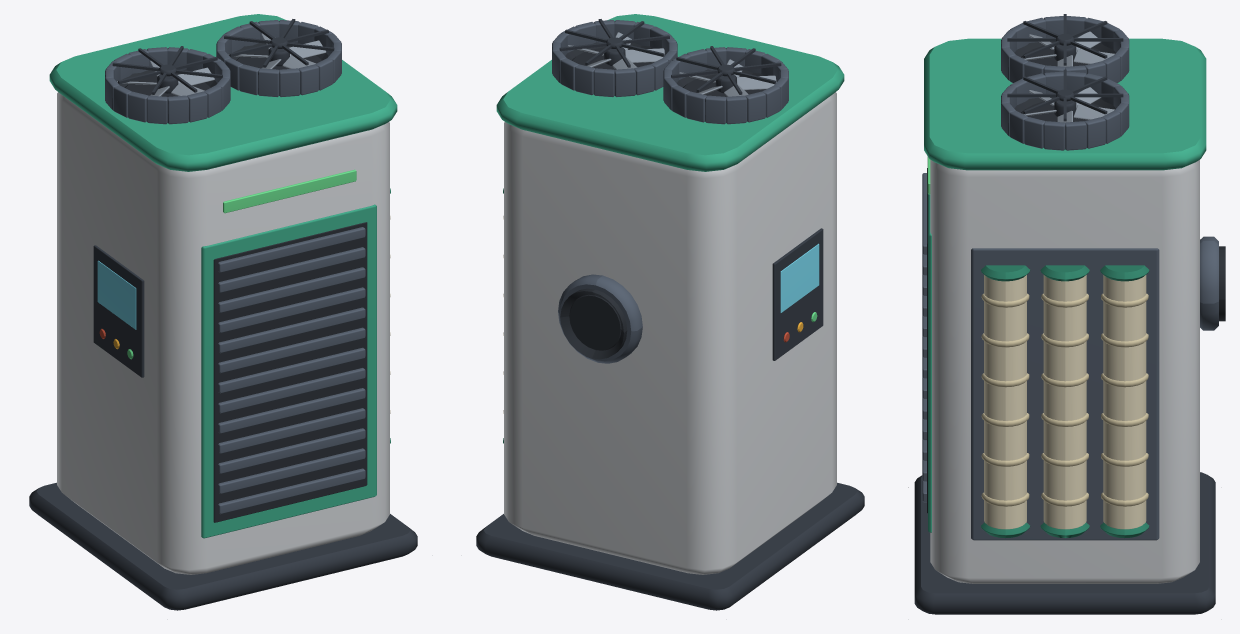
Rendered from purificateur_air.glb.
The picture shows the model from 3 angles, left to right: view 1: azimuth 30°, elevation 25°; view 2: azimuth 150°, elevation 25°; view 3: azimuth 270°, elevation 25°; orthographic projection. The views are drawn at different scales.
Parts seen in each view (by area): view 1: pieces_av_blanc.002, pieces_av_sombre.002, pieces_av_vert.002, pieces_av_grille.002, pieces_av_fonce.002, voyant_ecran_av_ecran.002, voyant_air_av_voyant_vert.002, helice_d_av_gris.002, helice_g_av_gris.002; view 2: pieces_av_blanc.002, pieces_av_fonce.002, pieces_av_vert.002, pieces_av_sombre.002, pieces_av_grille.002, voyant_ecran_av_ecran.002, helice_d_av_gris.002, helice_g_av_gris.002; view 3: pieces_av_blanc.002, pieces_av_sombre.002, pieces_av_filtre.002, pieces_av_vert.002, pieces_av_fonce.002, pieces_av_filtre_pli.002, pieces_av_vert_fonce.002, pieces_av_grille.002, helice_g_av_gris.002, helice_d_av_gris.002.
Boxes of the visible parts, x1=… form: pieces_av_blanc.002: x1=57, y1=92, x2=389, y2=574; pieces_av_sombre.002: x1=105, y1=20, x2=365, y2=514; pieces_av_vert.002: x1=49, y1=14, x2=397, y2=538; pieces_av_grille.002: x1=119, y1=42, x2=367, y2=522; pieces_av_fonce.002: x1=29, y1=19, x2=417, y2=610; voyant_ecran_av_ecran.002: x1=97, y1=260, x2=136, y2=329; voyant_air_av_voyant_vert.002: x1=223, y1=169, x2=356, y2=213; helice_d_av_gris.002: x1=228, y1=33, x2=326, y2=68; helice_g_av_gris.002: x1=117, y1=61, x2=214, y2=96; pieces_av_blanc.002: x1=504, y1=92, x2=836, y2=574; pieces_av_fonce.002: x1=476, y1=19, x2=864, y2=610; pieces_av_vert.002: x1=496, y1=14, x2=844, y2=171; pieces_av_sombre.002: x1=552, y1=20, x2=788, y2=363; pieces_av_grille.002: x1=560, y1=42, x2=765, y2=359; voyant_ecran_av_ecran.002: x1=780, y1=243, x2=819, y2=312; helice_d_av_gris.002: x1=567, y1=32, x2=664, y2=69; helice_g_av_gris.002: x1=679, y1=59, x2=776, y2=96; pieces_av_blanc.002: x1=930, y1=160, x2=1199, y2=583; pieces_av_sombre.002: x1=922, y1=16, x2=1218, y2=540; pieces_av_filtre.002: x1=984, y1=275, x2=1146, y2=529; pieces_av_vert.002: x1=924, y1=38, x2=1206, y2=532; pieces_av_fonce.002: x1=914, y1=14, x2=1215, y2=614; pieces_av_filtre_pli.002: x1=981, y1=293, x2=1148, y2=506; pieces_av_vert_fonce.002: x1=981, y1=265, x2=1149, y2=538; pieces_av_grille.002: x1=927, y1=41, x2=1225, y2=513; helice_g_av_gris.002: x1=1023, y1=31, x2=1114, y2=66; helice_d_av_gris.002: x1=1023, y1=87, x2=1114, y2=122.
Size of the model in its own units: 1.01 by 1.72 by 1.01.
